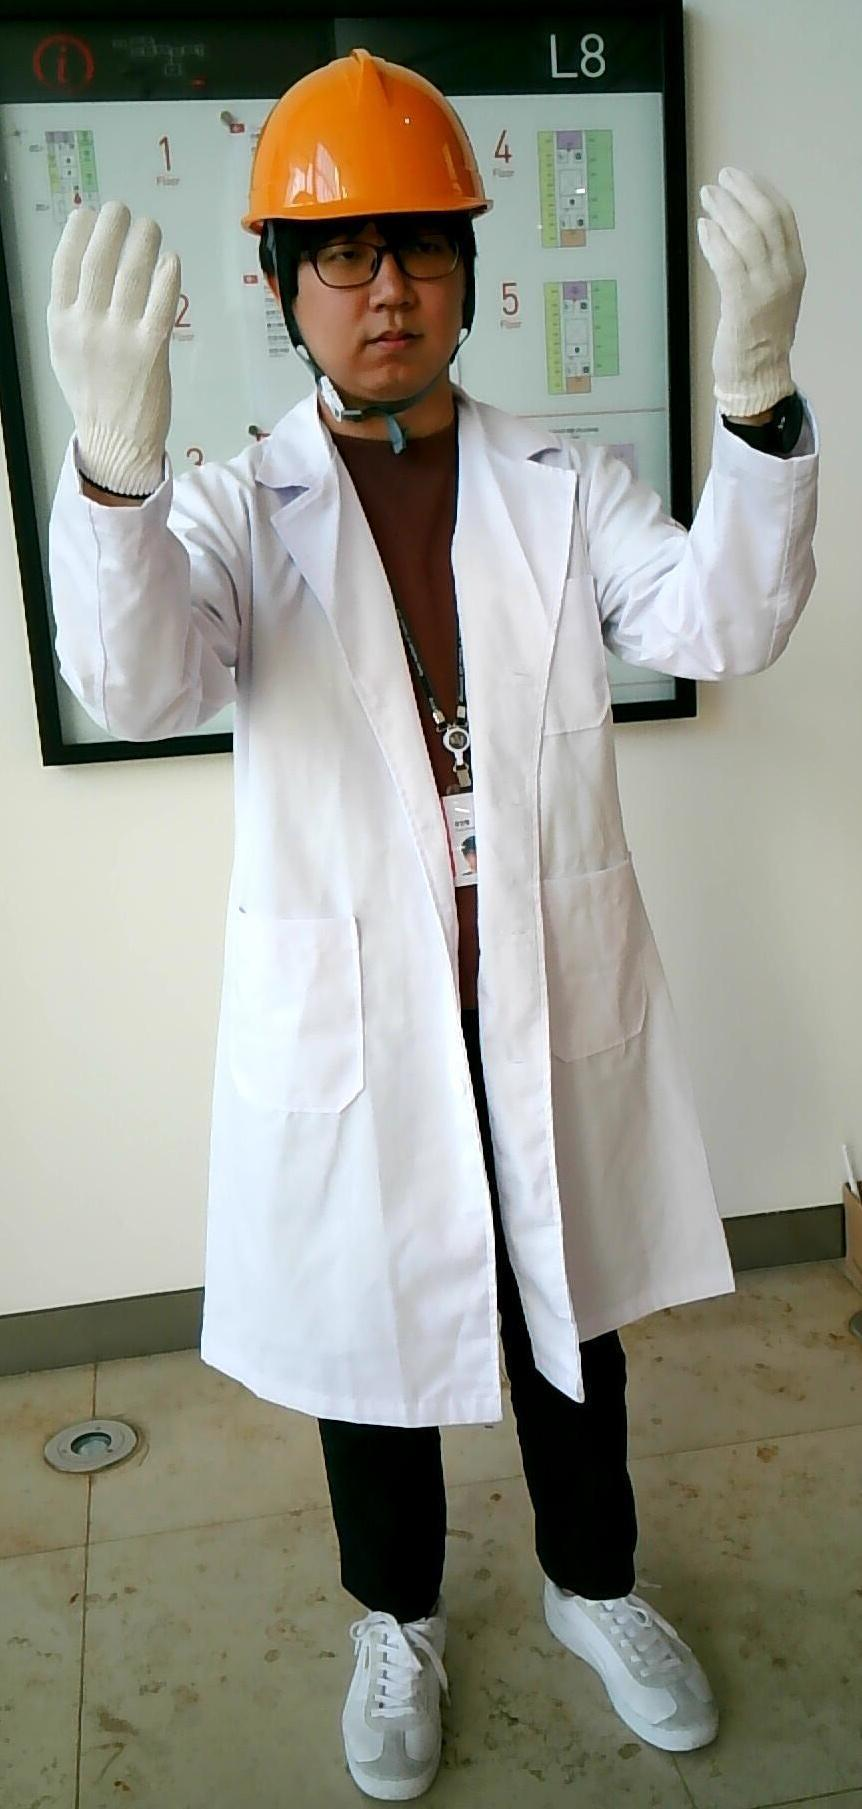lab_coat: (237, 490, 651, 1379)
